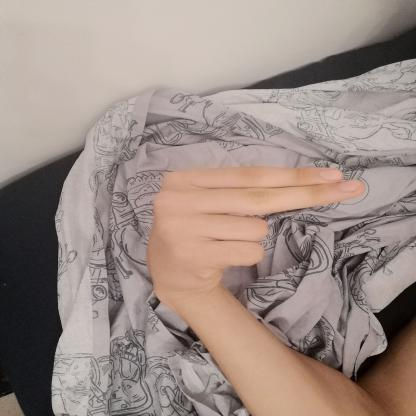AYN: (132, 152, 383, 305)
